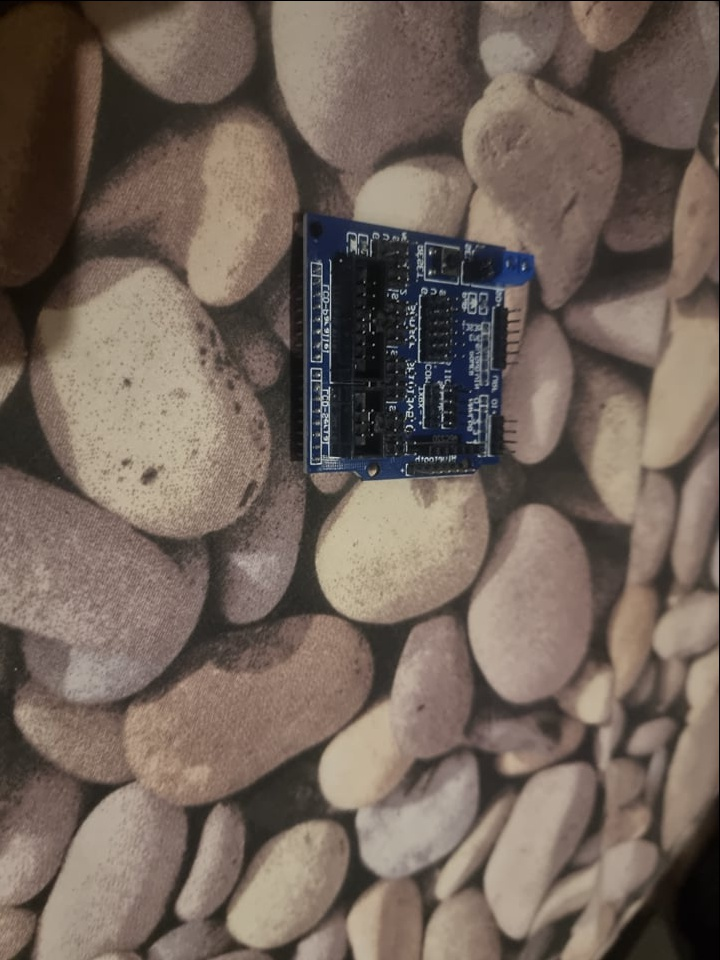5V EXPANSION: (298, 210, 534, 481)
